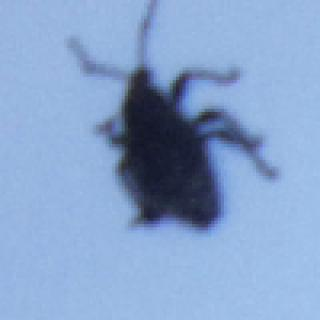bvw: (64, 0, 284, 239)
